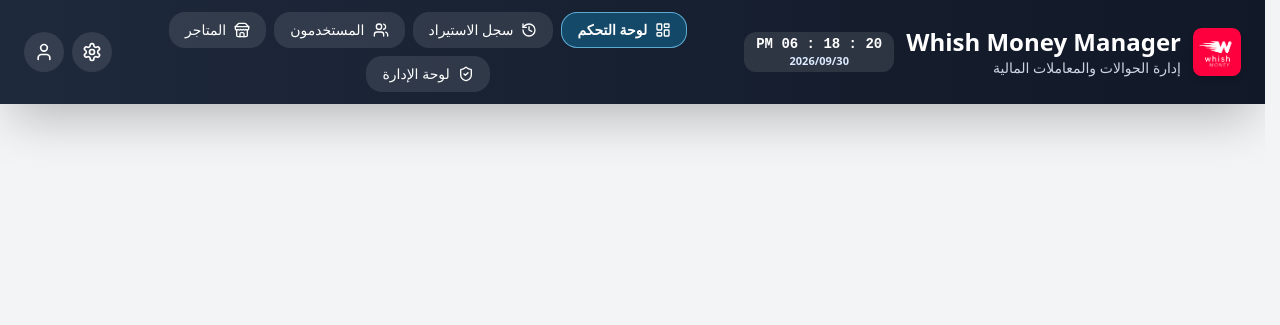
Scenario: Header — role and navigation › shows the signed-in user's role
Click the button with test id "user-menu-button".
click(44, 52)  # box [24, 32, 64, 72]
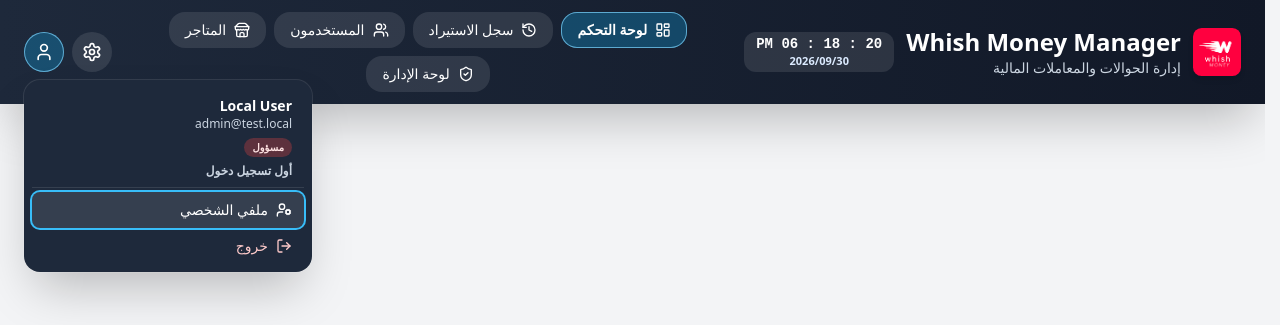
Now the text with test id "role-badge" reads "مسؤول", box [252, 140, 284, 154]
